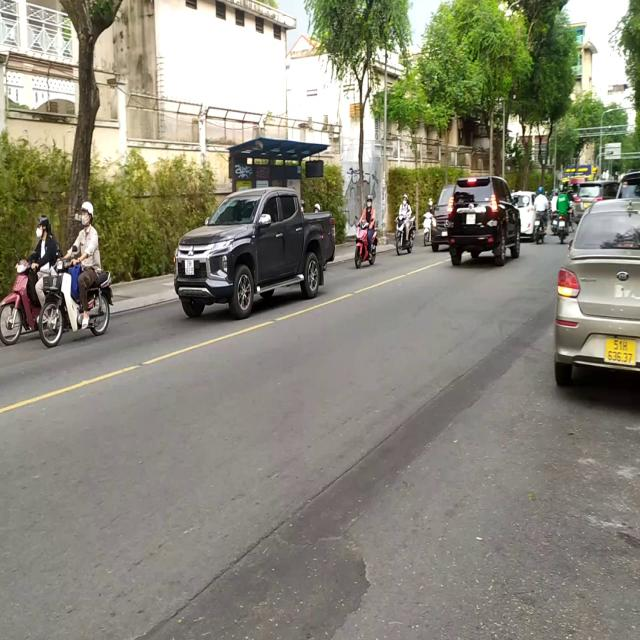bien_vang: (603, 335, 640, 369)
